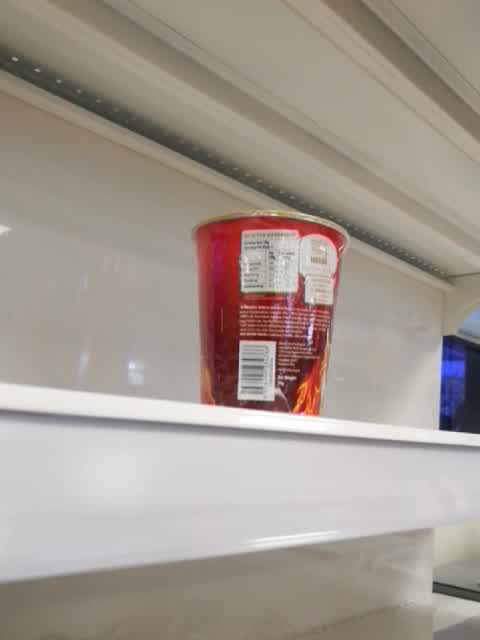maggi: (192, 210, 351, 416)
